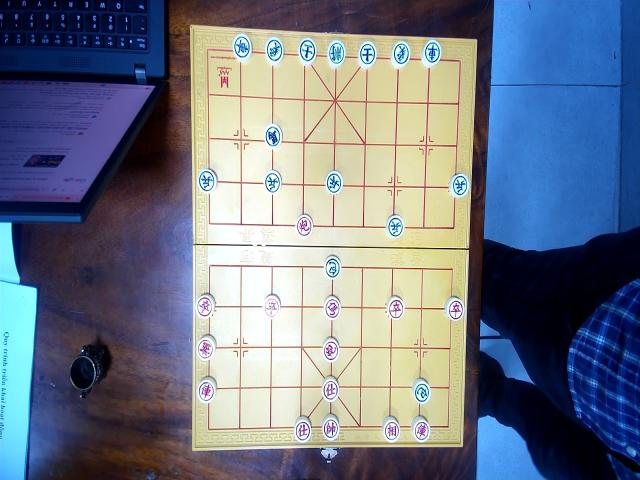piece: (421, 39, 442, 68), (390, 39, 410, 68), (232, 32, 252, 61), (449, 171, 469, 199), (326, 39, 346, 67), (196, 377, 216, 404), (410, 415, 430, 442), (196, 334, 216, 361), (265, 36, 284, 64), (294, 415, 312, 444), (411, 378, 431, 404), (382, 415, 401, 442), (298, 36, 316, 64), (322, 295, 342, 320), (444, 296, 464, 321), (195, 292, 214, 318), (322, 337, 340, 364), (358, 40, 376, 67), (322, 415, 340, 441), (263, 123, 281, 149), (386, 214, 404, 239), (324, 170, 342, 195), (198, 167, 216, 192), (322, 376, 339, 402), (386, 295, 404, 319), (295, 214, 313, 238), (324, 254, 341, 278), (264, 293, 280, 318), (264, 170, 280, 194)
